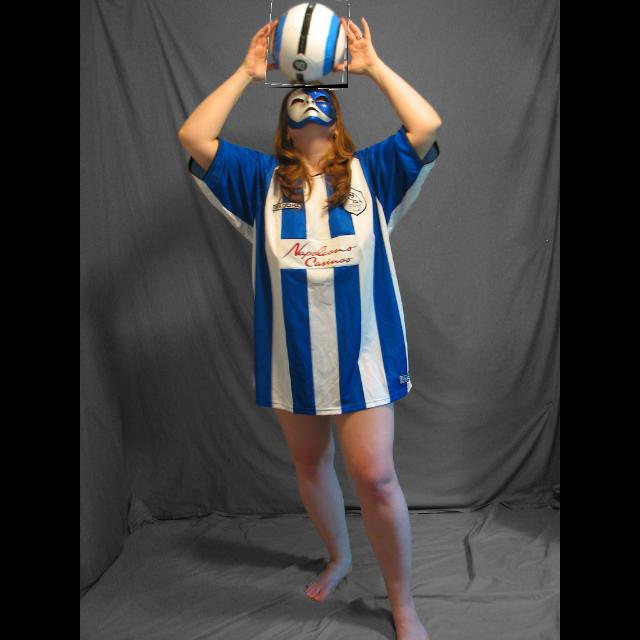Football: (267, 0, 348, 88)
